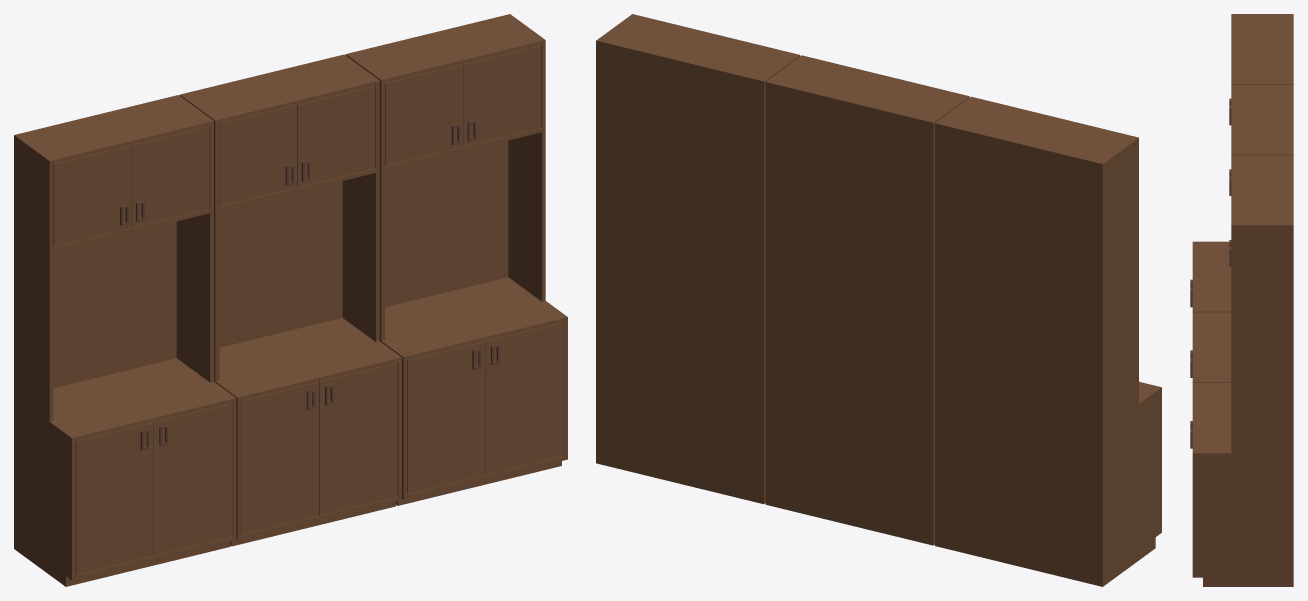
The model's file is family_room_case_x3.glb.
The picture shows the model from 3 angles, left to right: view 1: azimuth 30°, elevation 25°; view 2: azimuth 150°, elevation 25°; view 3: azimuth 270°, elevation 25°; orthographic projection. The views are drawn at different scales.
Parts seen in each view (by area): view 1: family_room_case, family_room_case.002, family_room_case.001; view 2: family_room_case, family_room_case.002, family_room_case.001; view 3: family_room_case.002, family_room_case.001, family_room_case.
Part boxes in pixels (x1,y1,x2,y2): family_room_case: (14, 95, 236, 586); family_room_case.002: (345, 14, 567, 505); family_room_case.001: (179, 54, 401, 546); family_room_case: (935, 96, 1161, 586); family_room_case.002: (596, 14, 800, 504); family_room_case.001: (765, 55, 969, 545); family_room_case.002: (1190, 155, 1293, 586); family_room_case.001: (1190, 84, 1293, 382); family_room_case: (1190, 14, 1293, 312).
Bounding box in the file's own units: 96.56 × 77 × 19.9.
